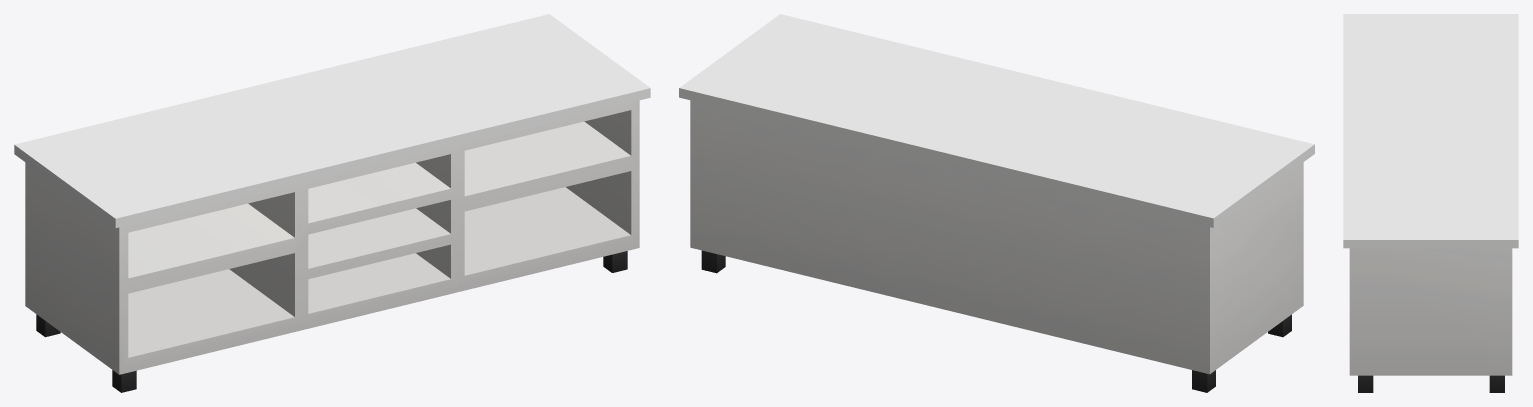
Rendered from SideboardCabinet_B_Open_WhiteGray.fbx.
3 views of the same model, side by side, from view 1: azimuth 30°, elevation 25°; view 2: azimuth 150°, elevation 25°; view 3: azimuth 270°, elevation 25° (orthographic). The views are drawn at different scales.
Visible parts, largest first — view 1: SideboardCabinet_B_Open_WhiteGray; view 2: SideboardCabinet_B_Open_WhiteGray; view 3: SideboardCabinet_B_Open_WhiteGray.
Boxes of the visible parts, box(x1,y1,x2,y2) form: SideboardCabinet_B_Open_WhiteGray: box(14, 14, 650, 392); SideboardCabinet_B_Open_WhiteGray: box(679, 14, 1314, 392); SideboardCabinet_B_Open_WhiteGray: box(1343, 14, 1518, 392).
Size of the model in its own units: 244 by 80.14 by 80.
